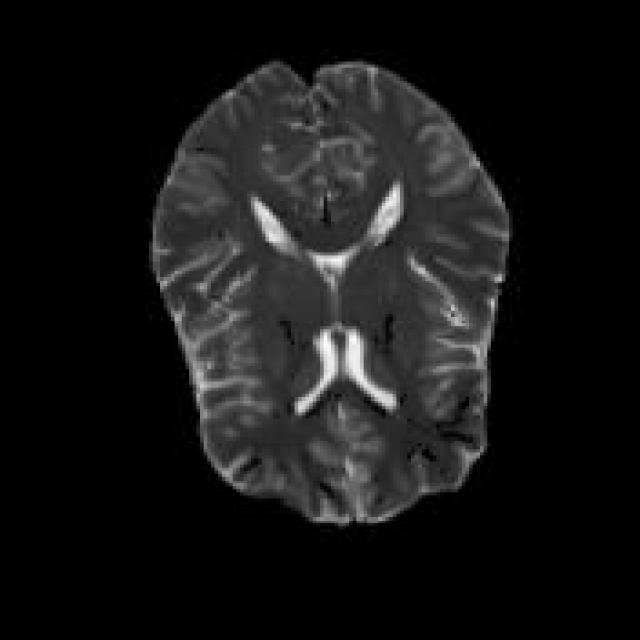parkinson: (145, 56, 513, 526)
